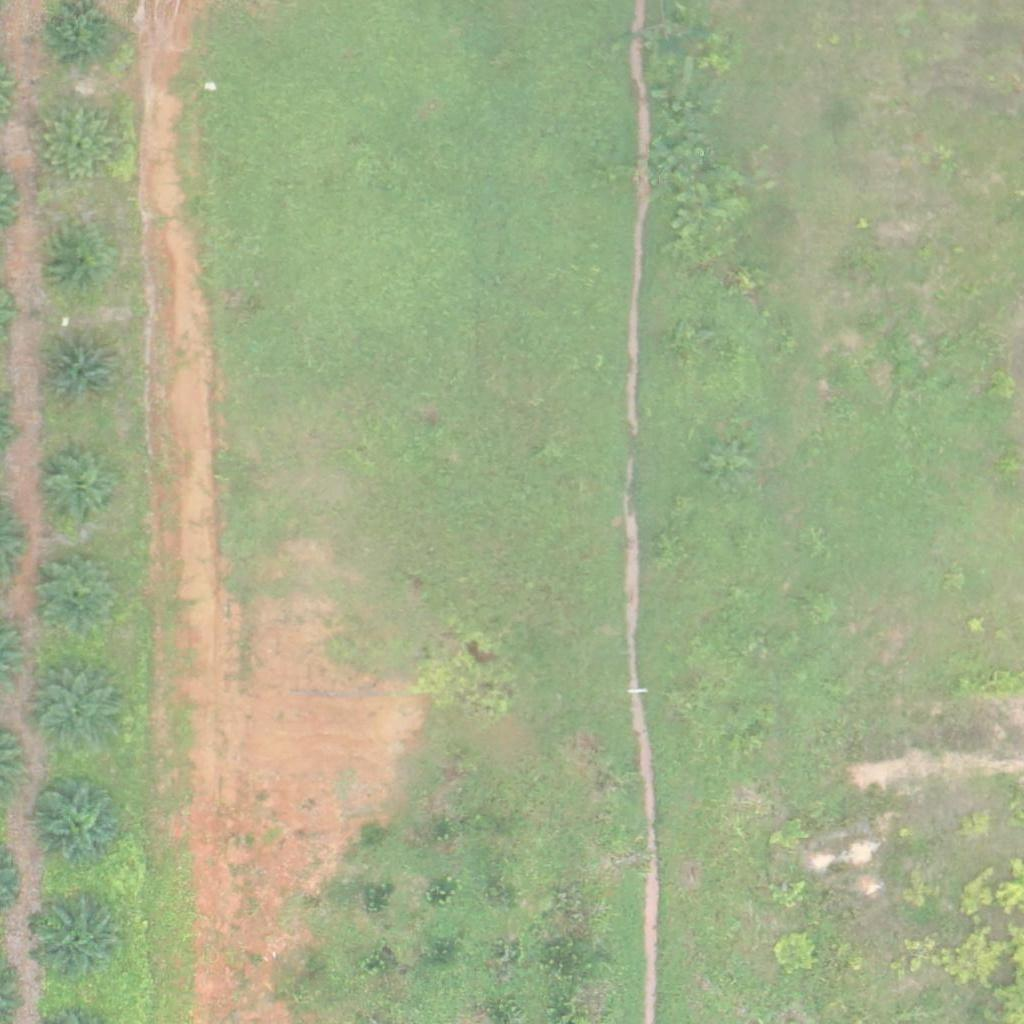Kelapa_Sawit: (28, 775, 128, 876), (34, 449, 122, 537), (36, 896, 124, 984), (38, 330, 125, 418), (34, 550, 121, 638), (34, 665, 121, 753), (38, 105, 113, 180), (43, 228, 106, 291)
